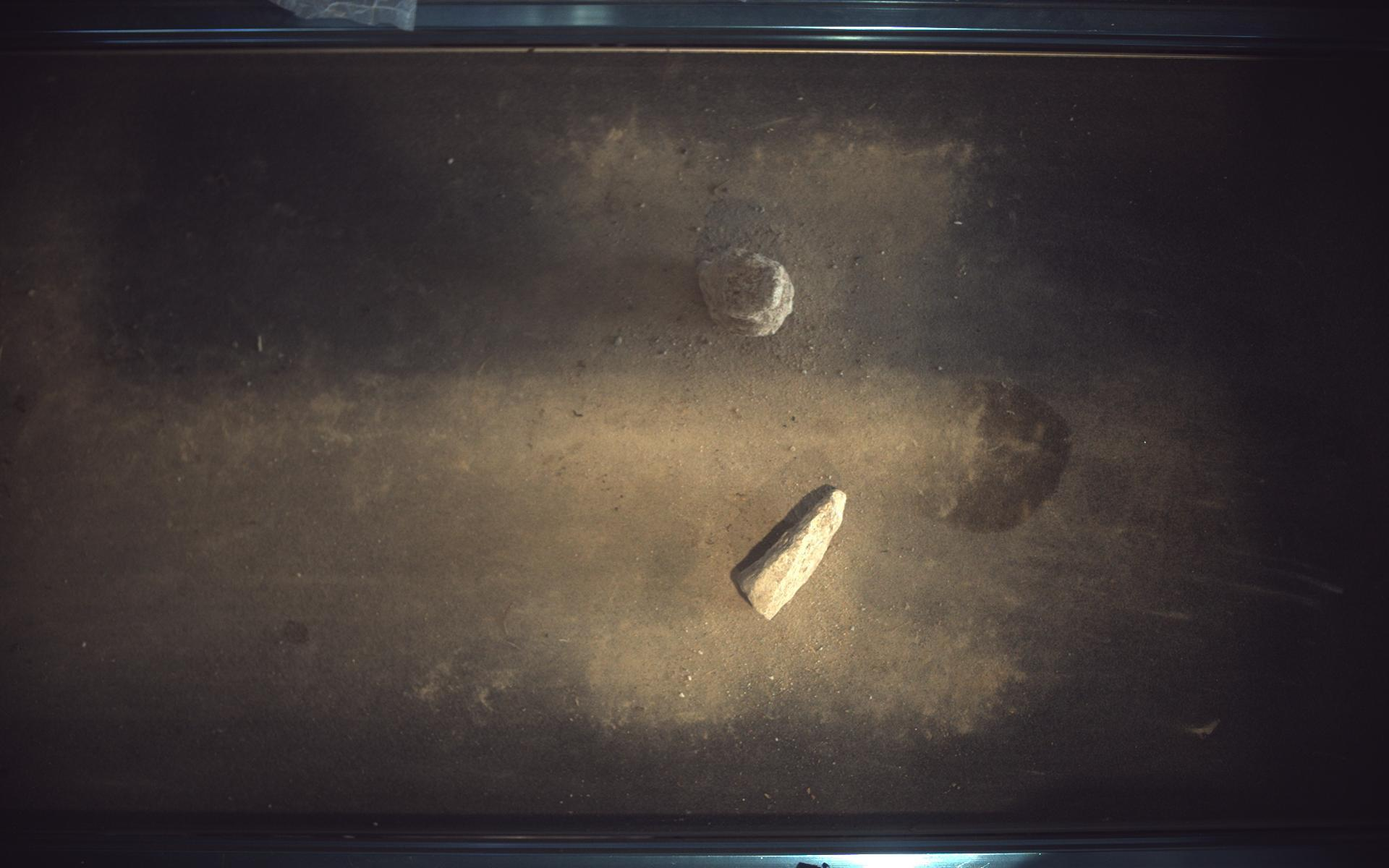stone: (738, 490, 848, 621), (700, 247, 796, 336)
